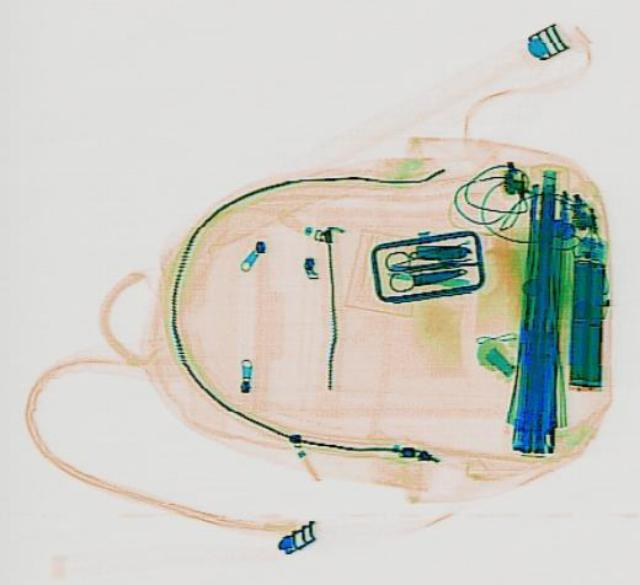Scissors: (380, 241, 458, 290)
